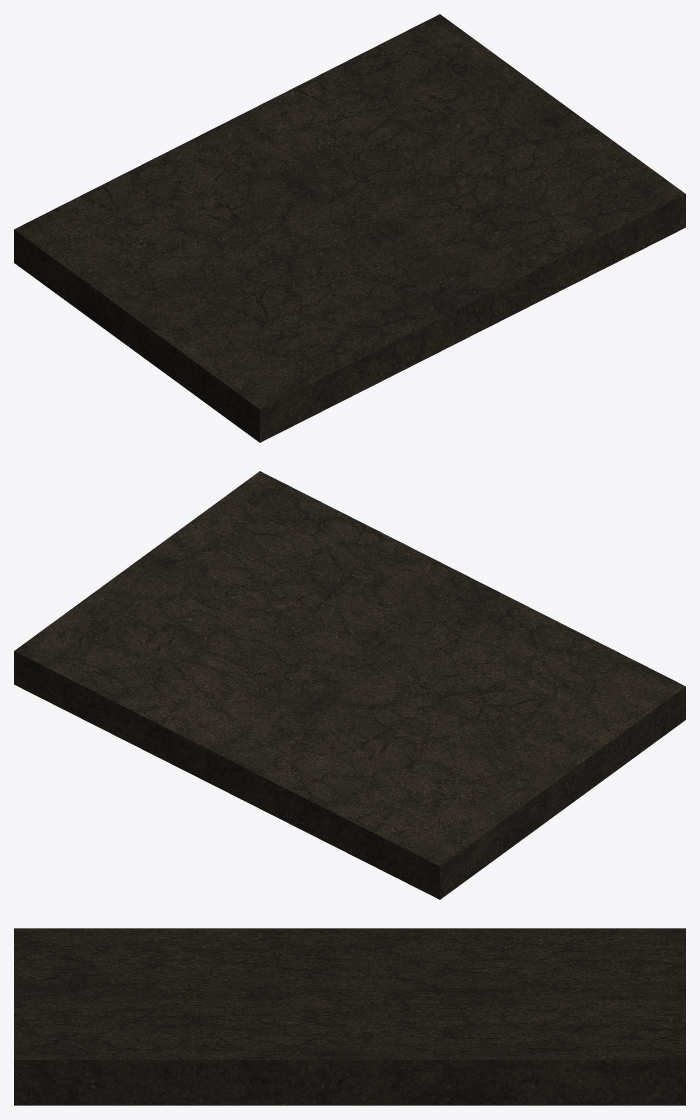
File: floor_ceiling_hs_4.glb
3 renders of one model, top to bottom at view 1: azimuth 30°, elevation 25°; view 2: azimuth 150°, elevation 25°; view 3: azimuth 270°, elevation 25°, orthographic. The views are drawn at different scales.
Parts seen in each view (by area): view 1: floor_ceiling_hs_4; view 2: floor_ceiling_hs_4; view 3: floor_ceiling_hs_4.
Boxes of the visible parts, box(x1,y1,x2,y2) form: floor_ceiling_hs_4: box(14, 14, 685, 442); floor_ceiling_hs_4: box(14, 471, 685, 899); floor_ceiling_hs_4: box(14, 928, 685, 1105).
Size of the model in its own units: 4 by 1.3 by 4.
1 material, 1 textured.
